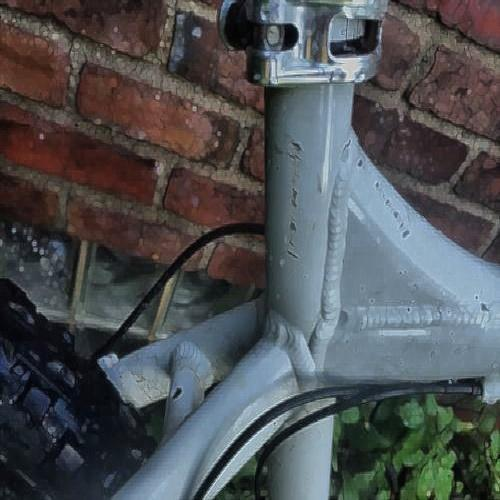bicycle: (142, 22, 481, 481)
